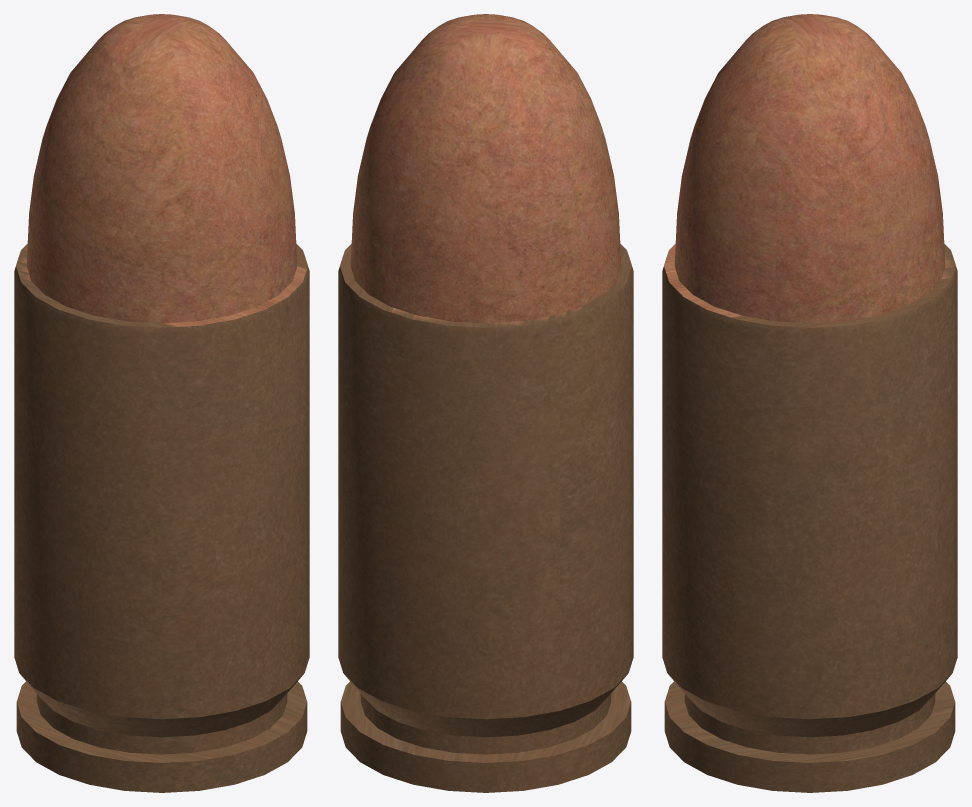
The model's file is bullet.glb.
3 renders of one model, left to right at view 1: azimuth 30°, elevation 25°; view 2: azimuth 150°, elevation 25°; view 3: azimuth 270°, elevation 25°, orthographic.
Parts seen in each view (by area): view 1: 9mm; view 2: 9mm; view 3: 9mm.
Boxes of the visible parts, bbox=[...] form: 9mm: bbox=[14, 14, 309, 792]; 9mm: bbox=[338, 14, 633, 792]; 9mm: bbox=[662, 14, 957, 792].
Size of the model in its own units: 0.0095 by 0.025 by 0.0095.
Materials: 1 (1 with a texture image).
